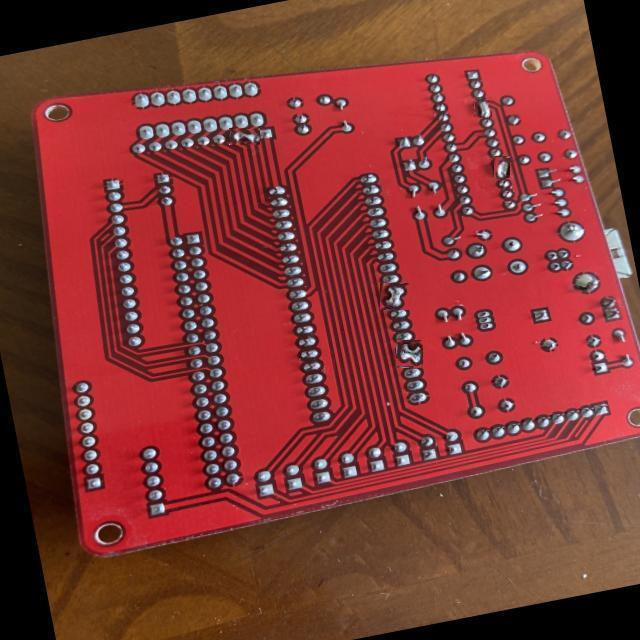damged: (380, 283, 410, 310), (396, 341, 422, 367), (229, 128, 260, 145), (474, 98, 492, 120), (493, 156, 510, 178)
